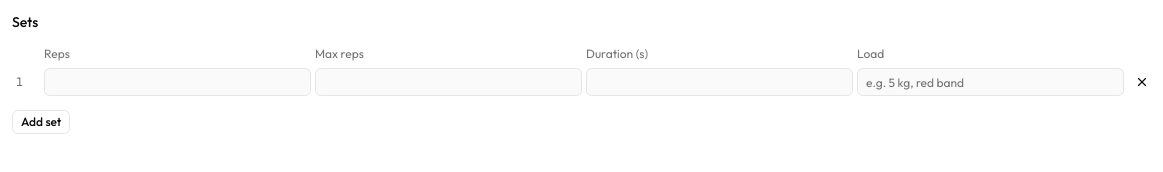
Test: SetsTable › discards invalid text on blur so the box shows the stored value
The width and height of the screenshot is (1163, 172).
In the field named "Set 1: Reps": (178,82) [44,68,311,96], type "1000"
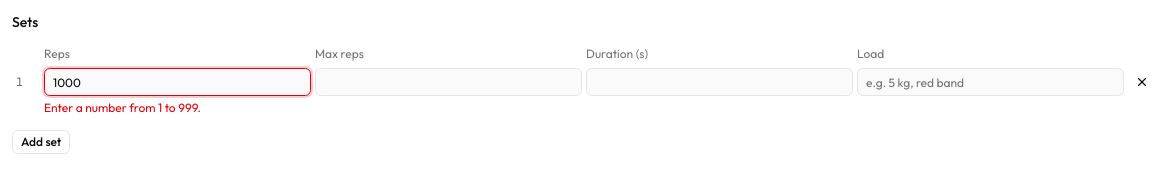
expect the text "Enter a number from 1 to 999." is shown: met, box [44,100,201,115]
Press Tab
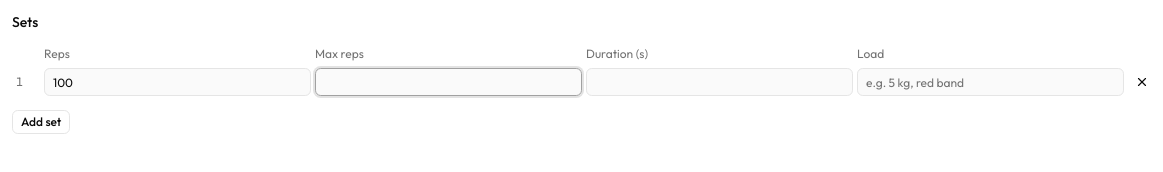
expect the text "Enter a number from 1 to 999." is gone: met
expect the field named "Set 1: Reps" holds "100": met, box [44,68,311,96]
